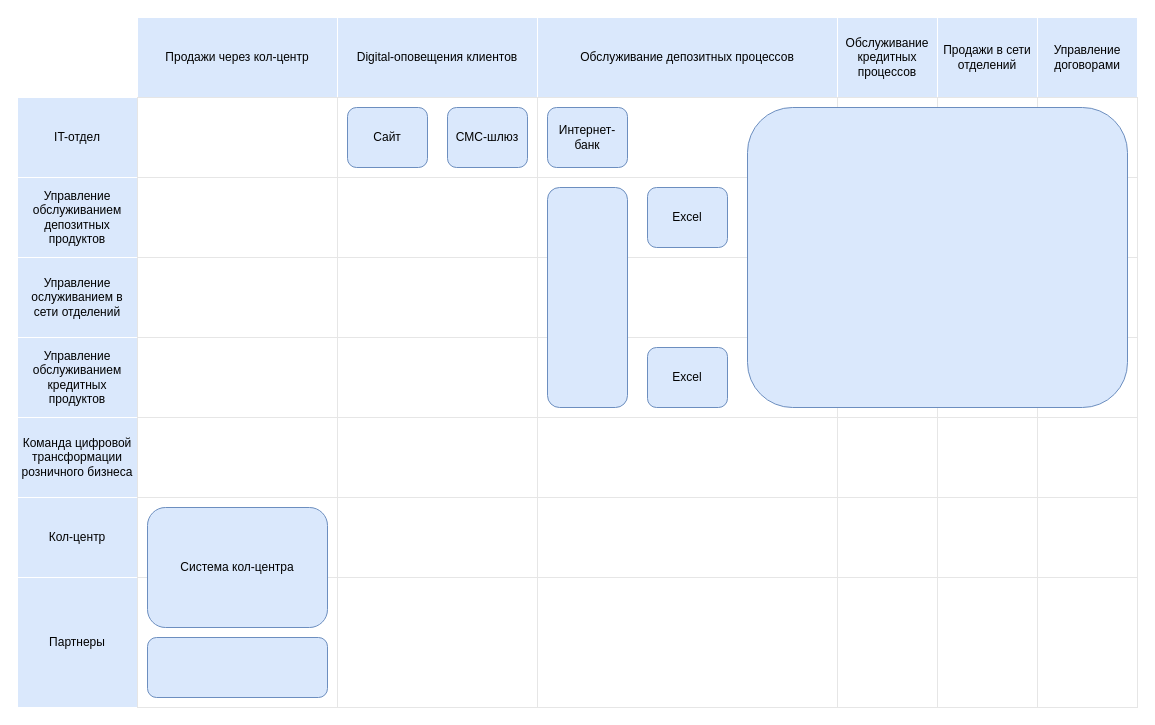
Image size: 1155x725. Some labels were removed from this diagram. The centre of each missing label's shape, as x and y in pixels:
АБС: [937,257]
Система партнерского кол-центра: [237,667]
Электронная почта: [587,297]
